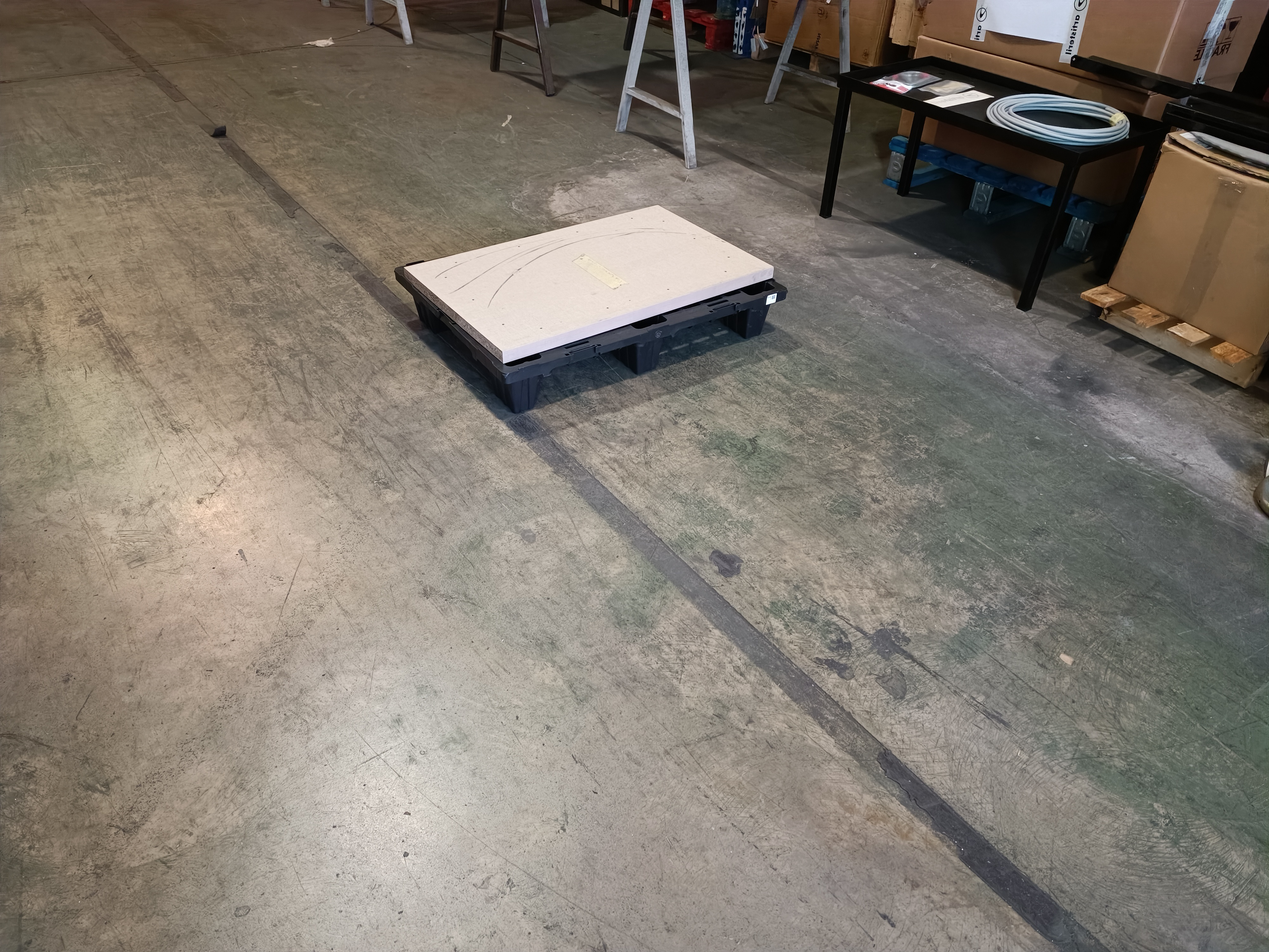block: (733, 292, 768, 343), (506, 369, 542, 417), (630, 329, 660, 378)
front: (500, 282, 791, 423)
hole pallet: (547, 344, 637, 408), (657, 308, 741, 367)
